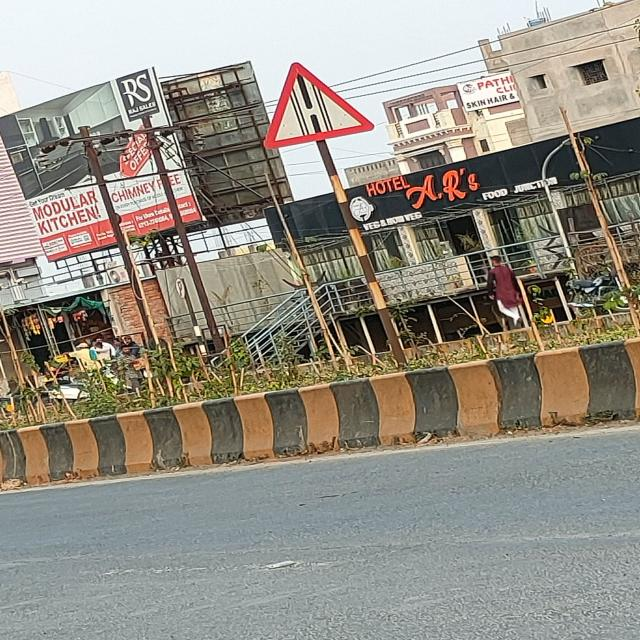GAP_IN_MEDIAN: (262, 61, 374, 150)
